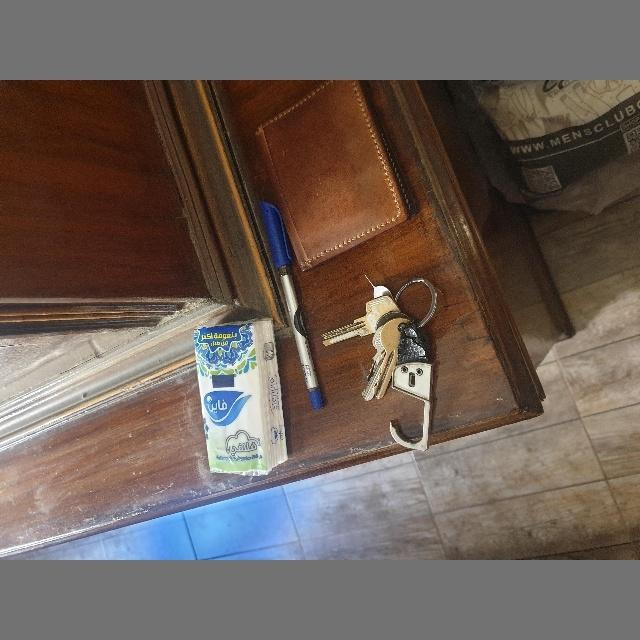Keys: (322, 274, 436, 452)
